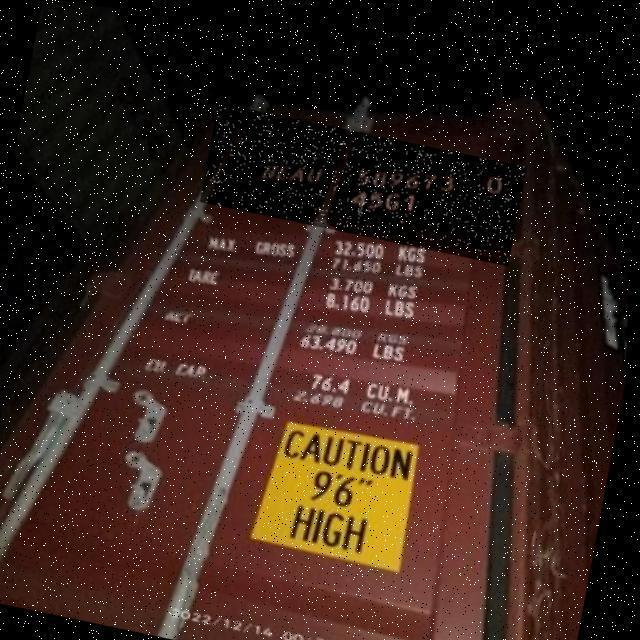container_number_h: (200, 99, 529, 260)
